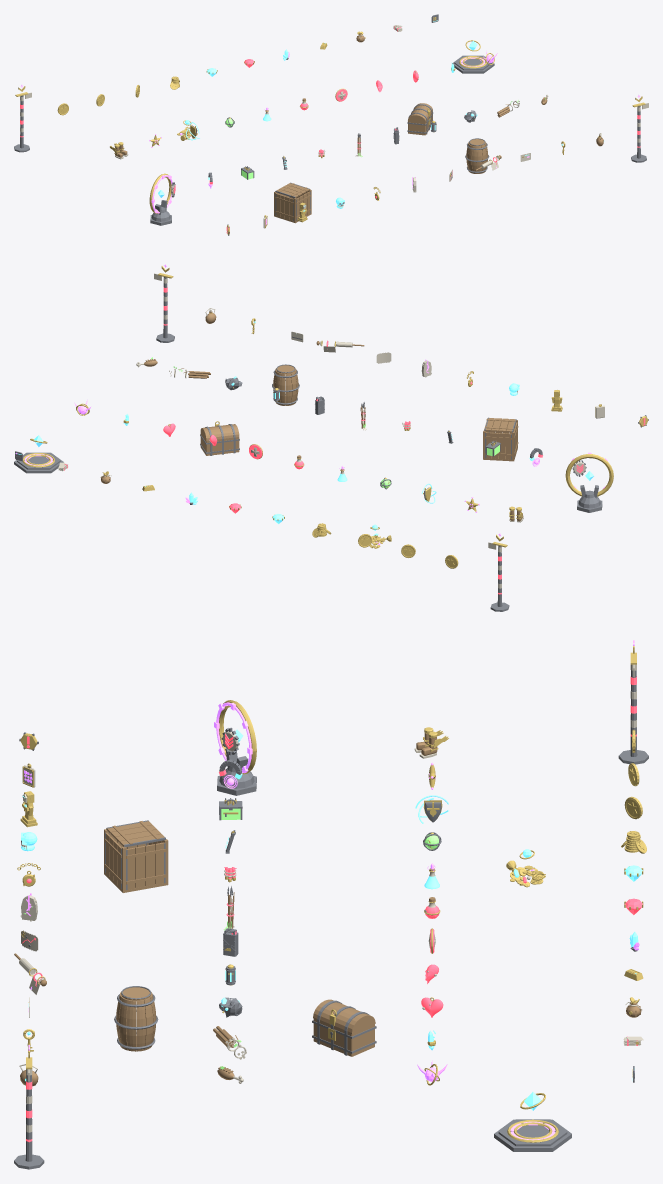
Rendered from pickups-and-collectibles-collectible-run-ae521a60-starter-scene__19987.glb.
The picture shows the model from 3 angles, top to bottom: view 1: azimuth 30°, elevation 25°; view 2: azimuth 150°, elevation 25°; view 3: azimuth 270°, elevation 25°; orthographic projection. The views are drawn at different scales.
Parts seen in each view (by area): view 1: 050-spawner-pad/base/iron, 048-supply-crate/panelRight/timber, 051-respawn-ring/base/iron, 049-barrel/staveB/timber; view 2: 050-spawner-pad/base/iron, 051-respawn-ring/ring/gold, 051-respawn-ring/base/iron, 048-supply-crate/panelBack/timber; view 3: 048-supply-crate/panelLeft/timber, 050-spawner-pad/base/iron, 047-treasure-chest/body/timber, 047-treasure-chest/lid/timber, 051-respawn-ring/base/iron, 048-supply-crate/lid/timber, 049-barrel/staveD/timber, 049-barrel/staveA/timber.
Boxes of the visible parts, x1=… form: 050-spawner-pad/base/iron: x1=452, y1=55, x2=494, y2=73; 048-supply-crate/panelRight/timber: x1=275, y1=193, x2=293, y2=220; 051-respawn-ring/base/iron: x1=150, y1=200, x2=171, y2=225; 049-barrel/staveB/timber: x1=468, y1=145, x2=482, y2=173; 050-spawner-pad/base/iron: x1=14, y1=452, x2=63, y2=473; 051-respawn-ring/ring/gold: x1=565, y1=454, x2=613, y2=496; 051-respawn-ring/base/iron: x1=577, y1=485, x2=602, y2=512; 048-supply-crate/panelBack/timber: x1=485, y1=432, x2=511, y2=459; 048-supply-crate/panelLeft/timber: x1=126, y1=842, x2=165, y2=889; 050-spawner-pad/base/iron: x1=494, y1=1119, x2=571, y2=1151; 047-treasure-chest/body/timber: x1=313, y1=1017, x2=374, y2=1056; 047-treasure-chest/lid/timber: x1=313, y1=999, x2=375, y2=1033; 051-respawn-ring/base/iron: x1=217, y1=750, x2=256, y2=795; 048-supply-crate/lid/timber: x1=106, y1=821, x2=164, y2=846; 049-barrel/staveD/timber: x1=136, y1=994, x2=156, y2=1051; 049-barrel/staveA/timber: x1=116, y1=994, x2=136, y2=1051.
Size of the model in its own units: 15.77 by 2.07 by 10.08.
